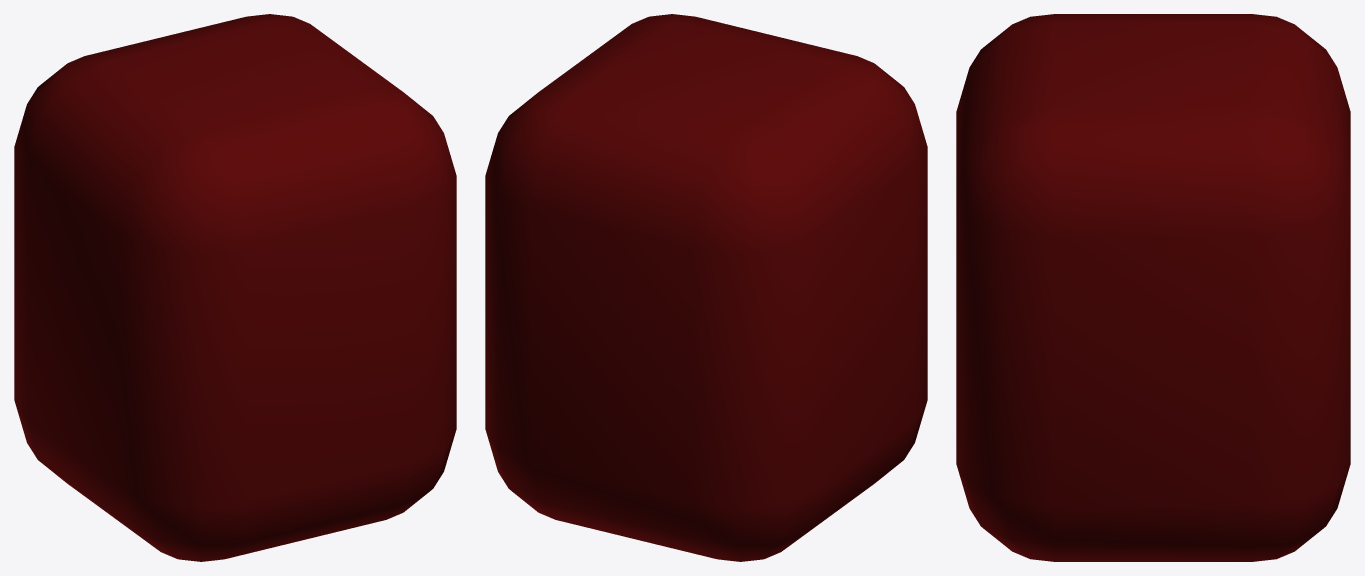
The model's file is offSwitch.obj.
The picture shows the model from 3 angles, left to right: view 1: azimuth 30°, elevation 25°; view 2: azimuth 150°, elevation 25°; view 3: azimuth 270°, elevation 25°; orthographic projection. The views are drawn at different scales.
Parts seen in each view (by area): view 1: ChamferBox002; view 2: ChamferBox002; view 3: ChamferBox002.
Boxes of the visible parts, box(x1,y1,x2,y2) form: ChamferBox002: box(14, 14, 456, 561); ChamferBox002: box(485, 14, 927, 561); ChamferBox002: box(956, 14, 1350, 561).
Bounding box in the file's own units: 8 × 10 × 8.
